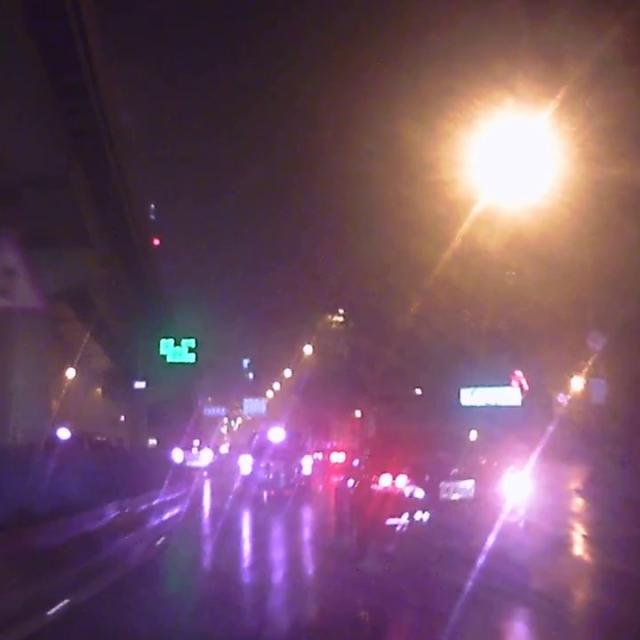Car: (328, 419, 532, 555), (237, 426, 309, 500)
